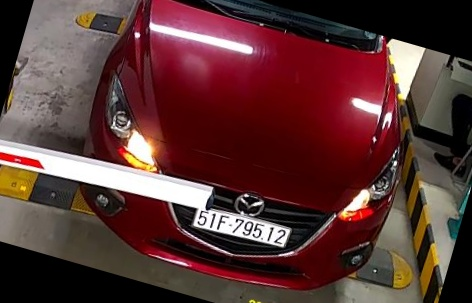plate: (191, 207, 295, 253)
